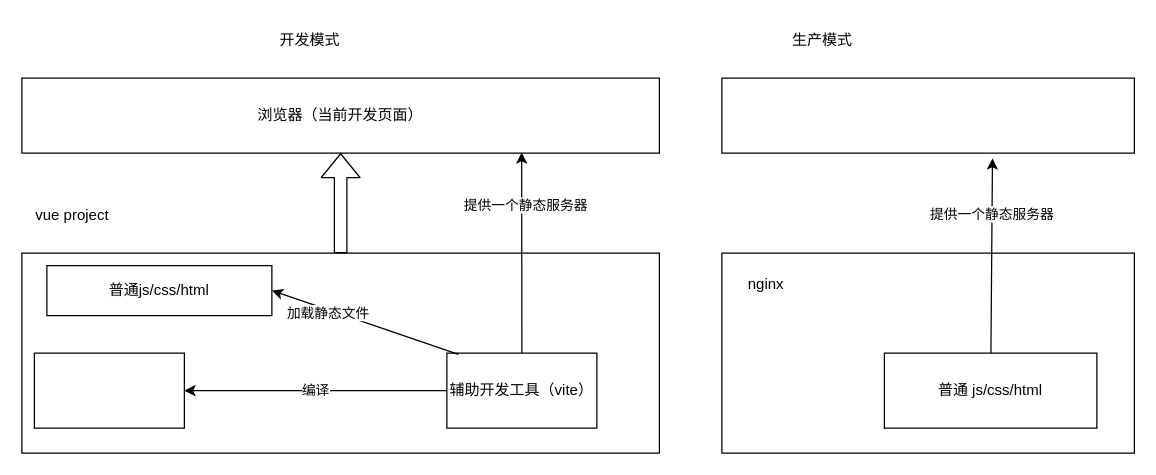
Some shapes in this 1156 by 475 pixel diagram are drawn without their labels. The shapes that lost their labels are listed below. From the top down, each one's centre as x and y in pixels, then its label:
point 927,115: 浏览器（用户访问到的页面）
point 108,390: src
